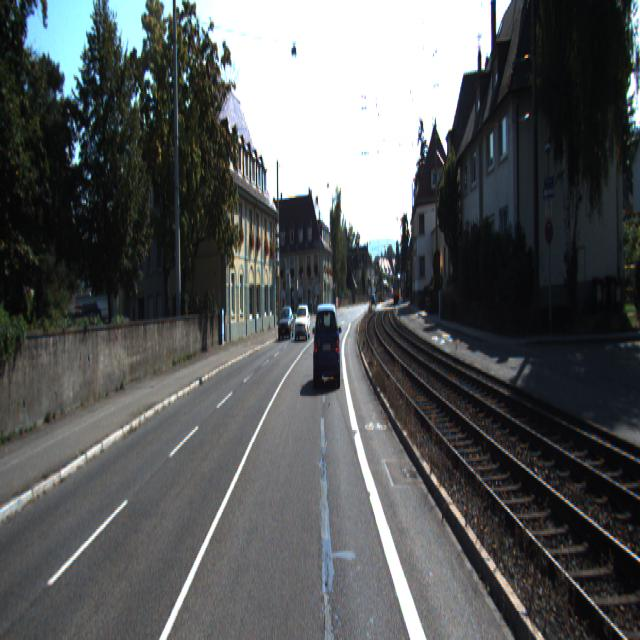Car: (312, 302, 341, 391), (294, 304, 311, 339), (278, 306, 294, 340)
